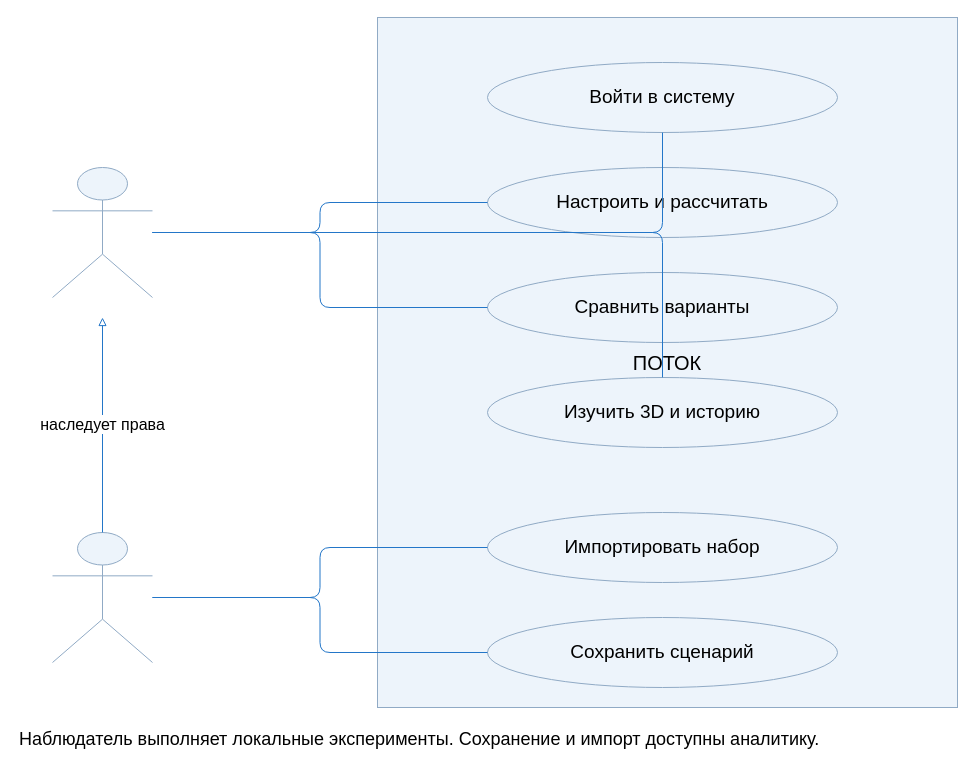
This 975x775 diagram has some shape labels left out. The shapes that lost their labels are listed below. From the top down, each one's centre as x and y in pixels, then its label:
the point at 102,232: Наблюдатель
the point at 102,597: Аналитик
